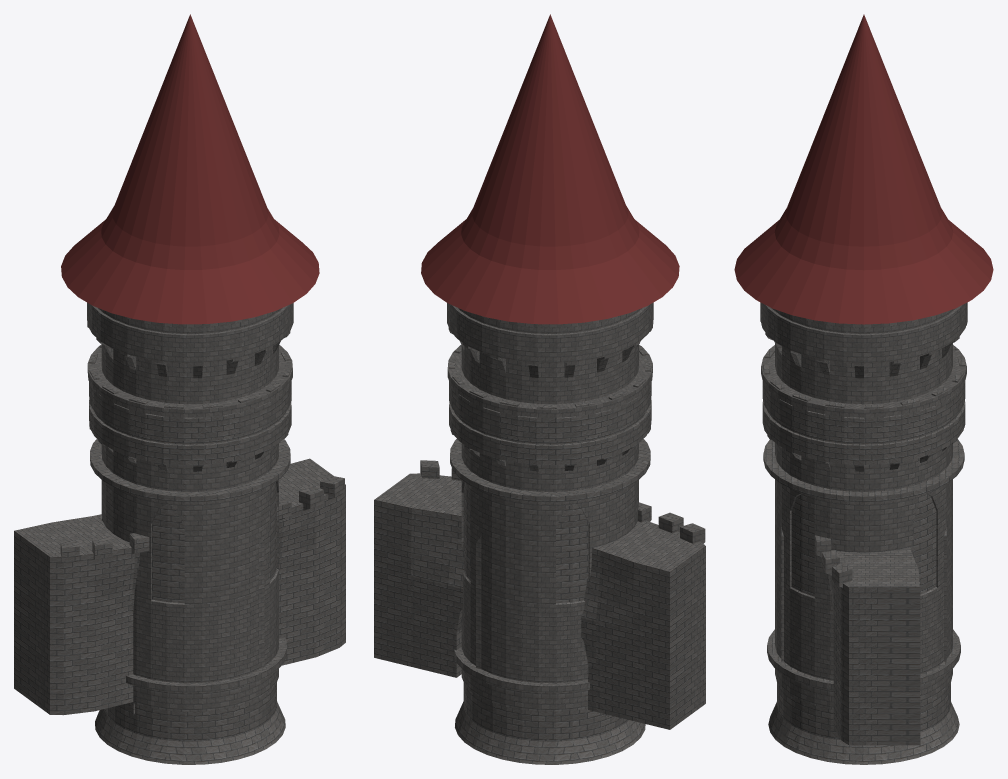
File: castle parts.fbx
3 renders of one model, left to right at view 1: azimuth 30°, elevation 25°; view 2: azimuth 150°, elevation 25°; view 3: azimuth 270°, elevation 25°, orthographic.
Parts seen in each view (by area): view 1: Castle tower round roof, Castle gate, Castle tower round, Castle wall; view 2: Castle tower round roof, Castle gate, Castle tower round, Castle wall; view 3: Castle tower round roof, Castle tower round, Castle gate, Castle wall.
Part boxes in pixels (<box>): Castle tower round roof: <box>61,14,319,711</box>; Castle gate: <box>14,458,345,715</box>; Castle tower round: <box>89,344,291,764</box>; Castle wall: <box>259,536,264,669</box>; Castle tower round roof: <box>421,14,679,711</box>; Castle gate: <box>374,460,705,729</box>; Castle tower round: <box>449,344,651,764</box>; Castle wall: <box>476,536,481,668</box>; Castle tower round roof: <box>734,14,993,709</box>; Castle tower round: <box>762,345,965,764</box>; Castle gate: <box>815,535,920,745</box>; Castle wall: <box>781,527,946,661</box>.
Bounding box in the file's own units: 11.28 × 25.87 × 8.55.
